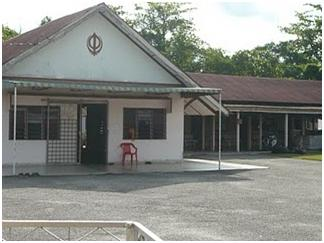Gurdwara: (82, 29, 104, 52)
